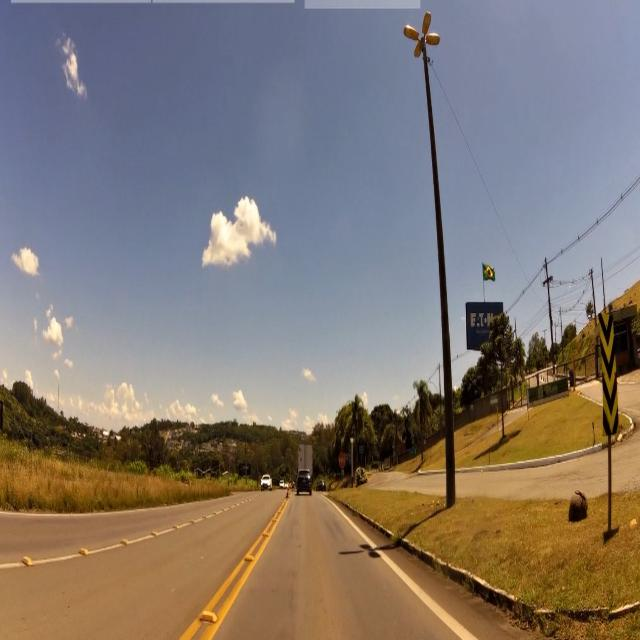MP: (597, 305, 622, 439)
